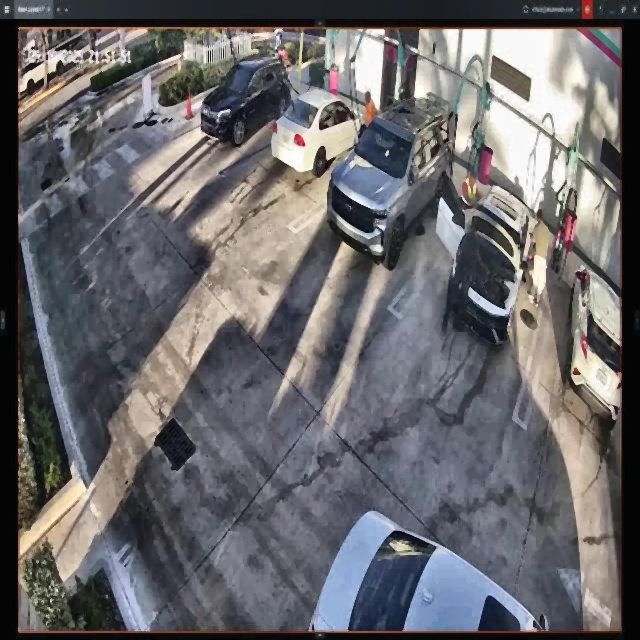Car: (328, 98, 449, 270), (442, 174, 536, 342), (271, 88, 368, 175)
